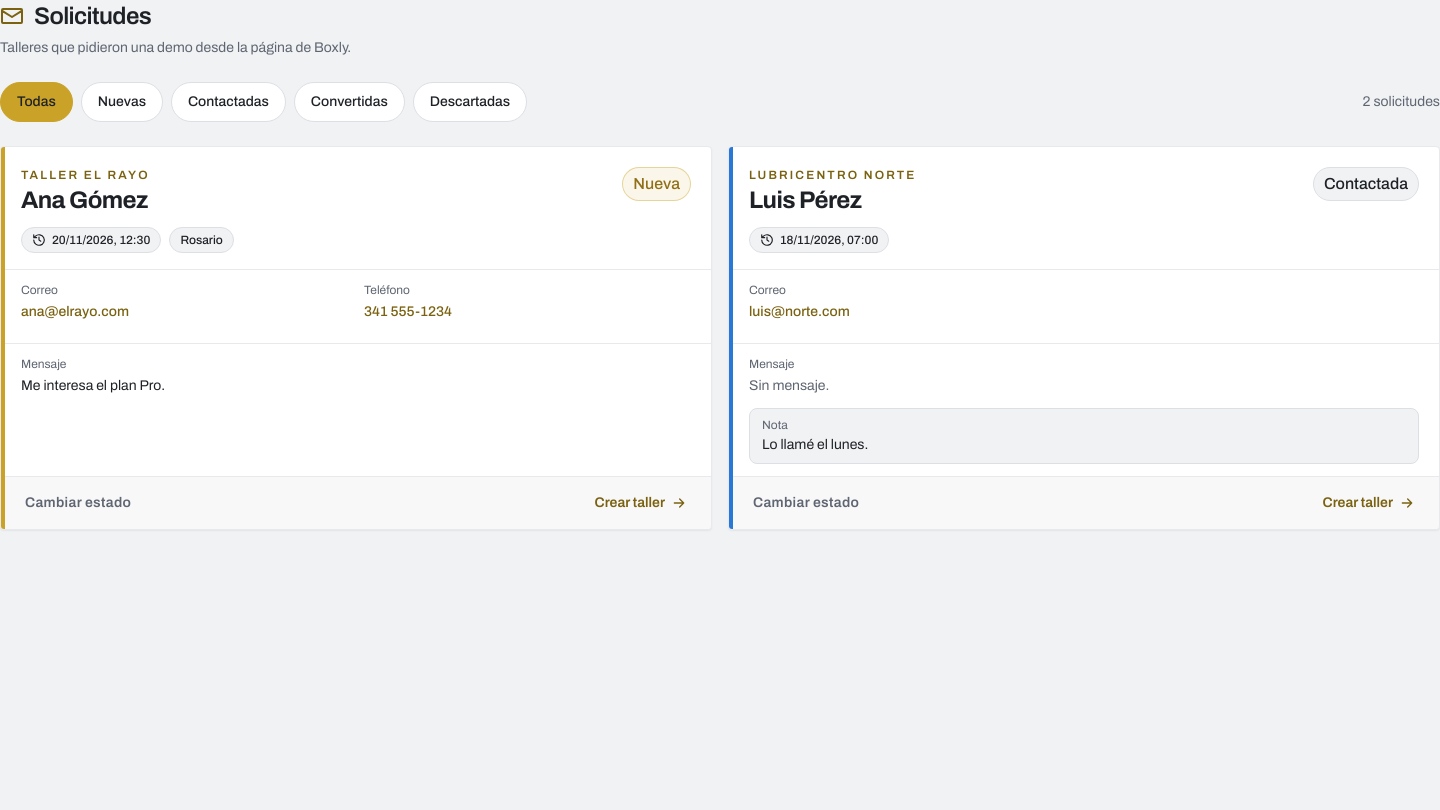
Test: PlataformaSolicitudes › cambia el estado con una nota desde el modal
expect the heading "Ana Gómez" is shown: met, box [21,185,150,215]
Click the button "Cambiar estado" below "Me interesa el plan Pro.".
click(78, 503)  # box [13,485,143,521]
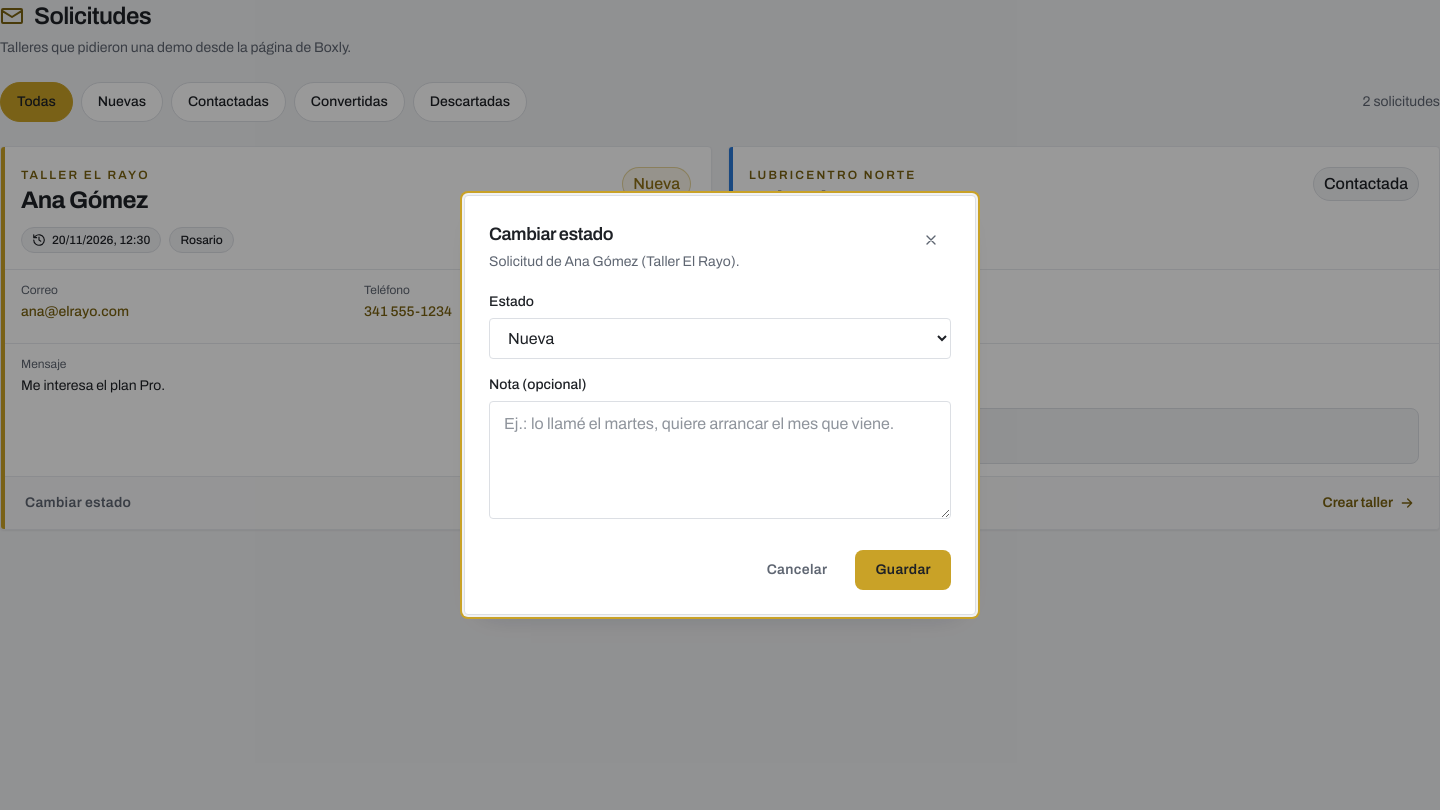
expect the text "Solicitud de Ana Gómez (Taller El Rayo)." is shown: met, box [489,252,740,272]
expect the dropdown labelled "Estado" shows "Nueva": met
Select "Contactada" in the dropdown labelled "Estado" at (720, 338), box [489,318,951,359]
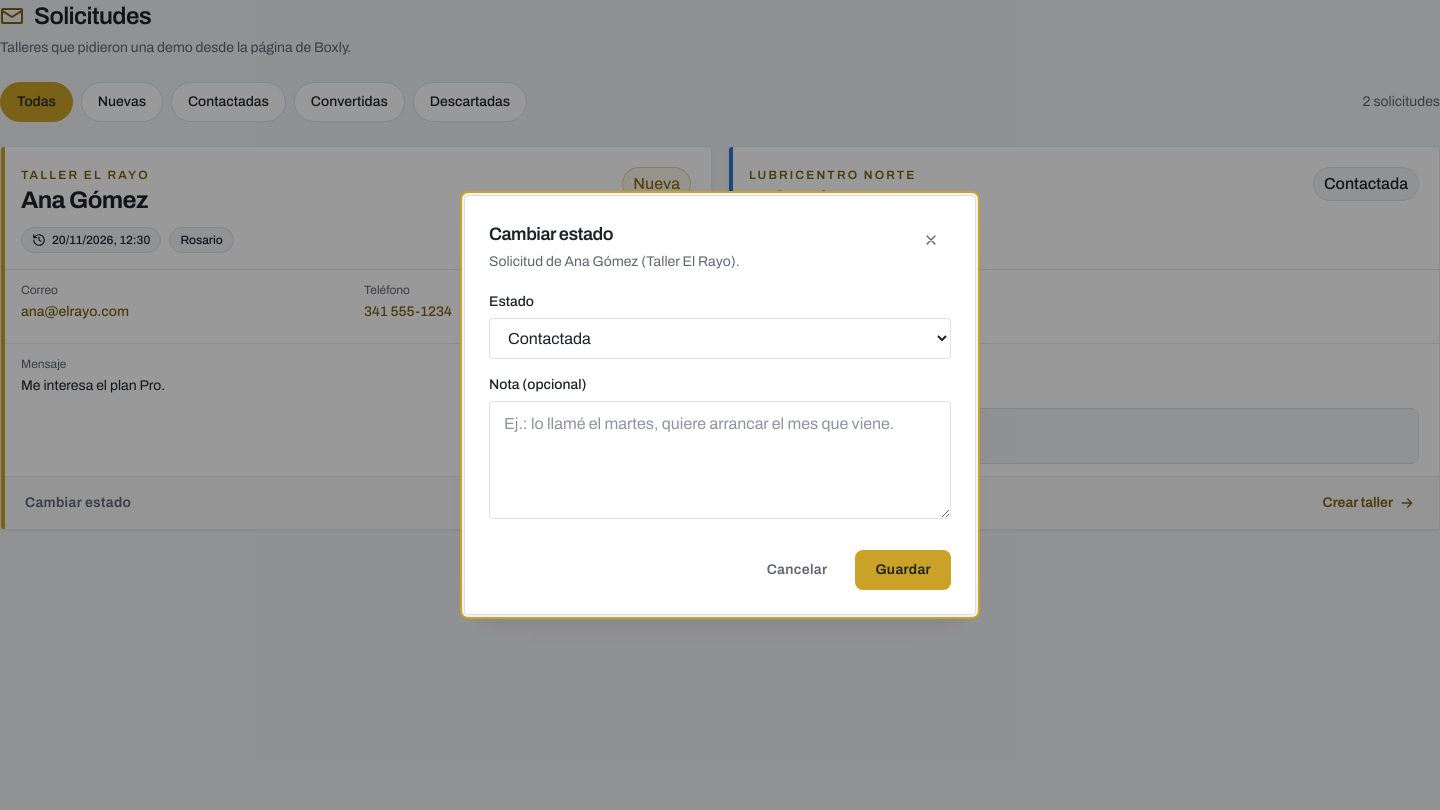
Type "  Le mandé un correo. " into the text box labelled "Nota (opcional)".
click(720, 460); type("  Le mandé un correo. ")  # box [489,401,951,519]
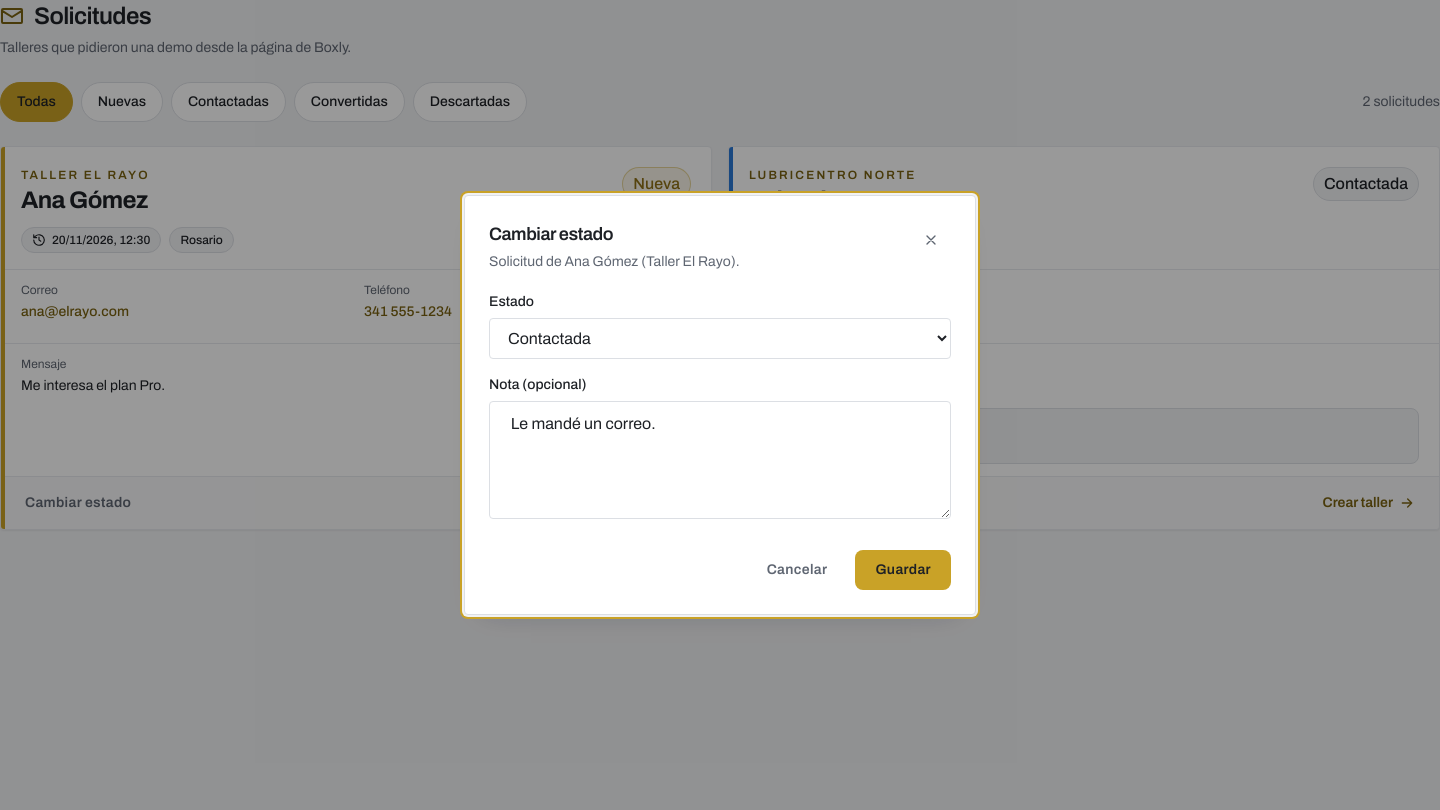
Click the button "Guardar".
click(903, 570)  # box [855,550,951,590]
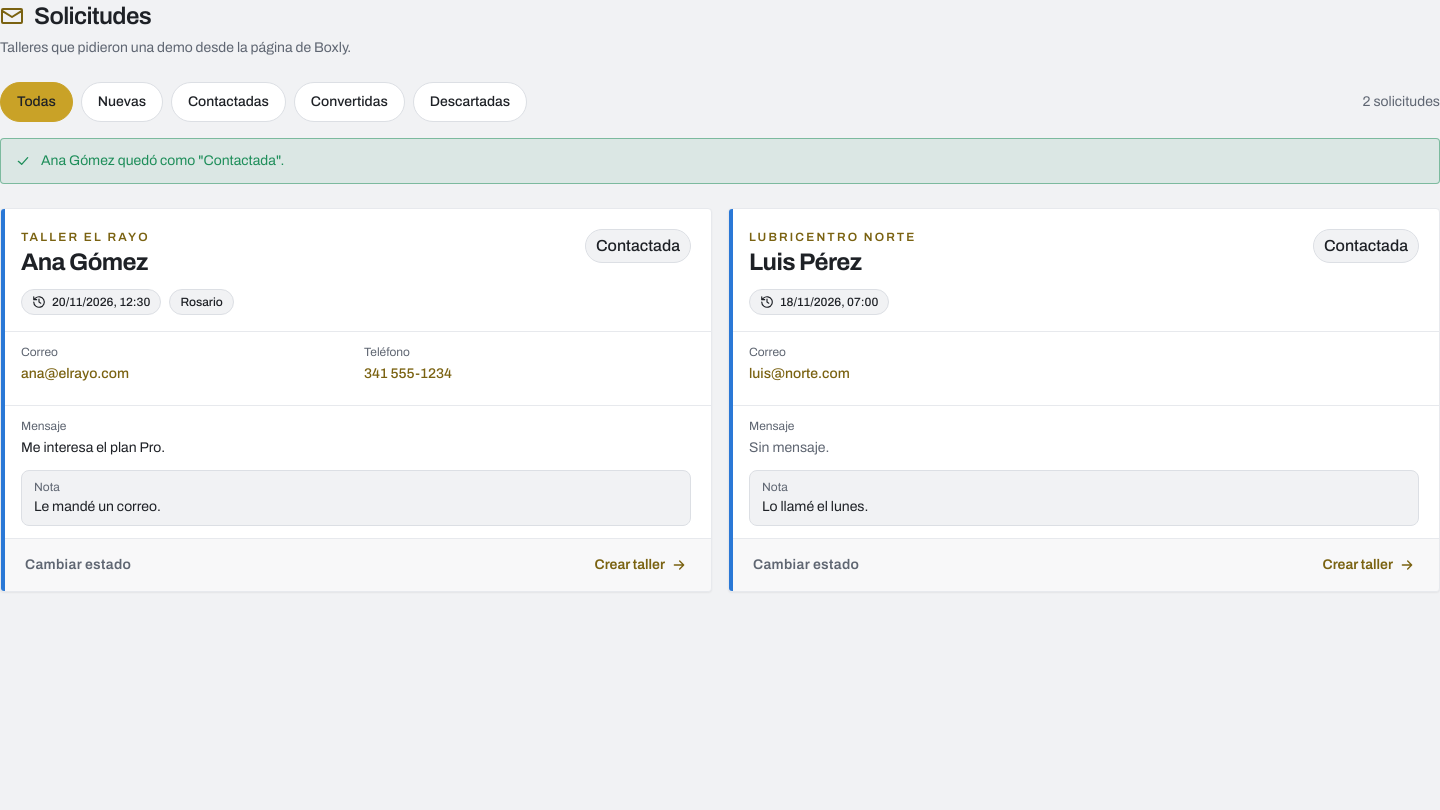
expect the dialog is gone: met
expect the text "Ana Gómez quedó como \"Contactada\"." is shown: met, box [41,153,284,168]
expect the text "Le mandé un correo." is shown: met, box [34,499,161,514]
